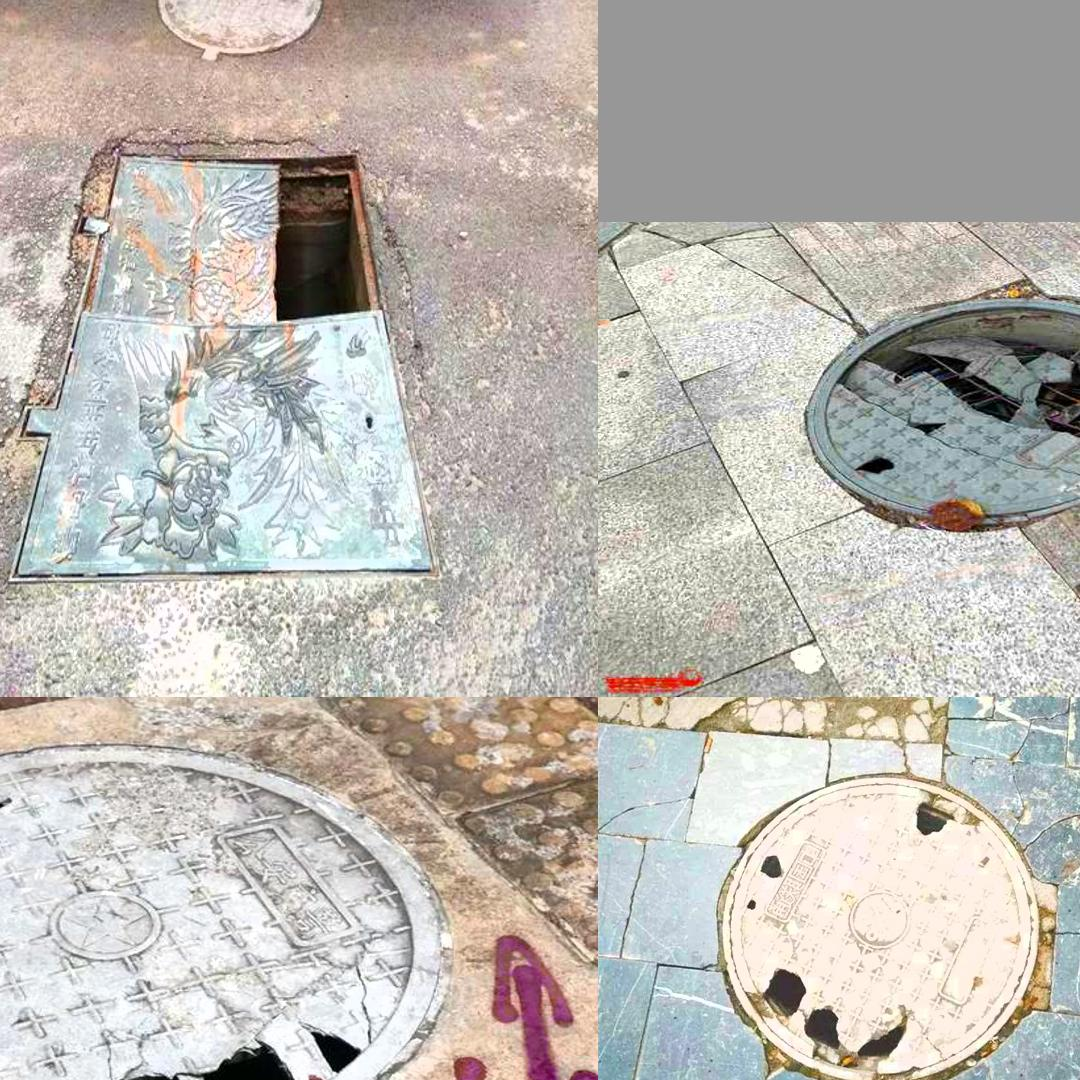broke: (0, 106, 454, 616), (0, 740, 470, 1080), (721, 777, 1039, 1080), (789, 290, 1080, 536)
